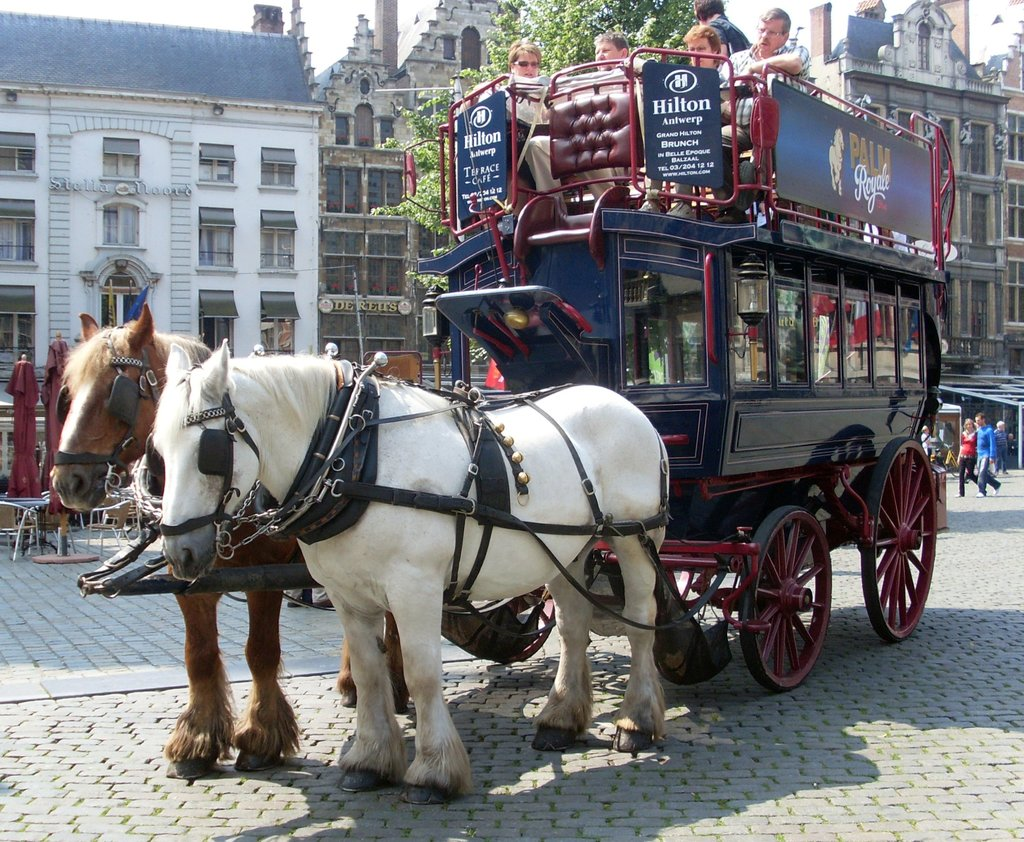horse: (146, 337, 671, 805)
